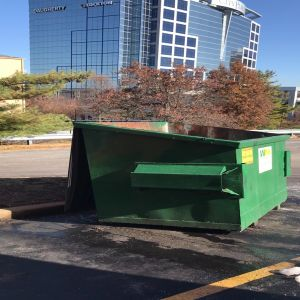Dumpster: (64, 119, 295, 234)
